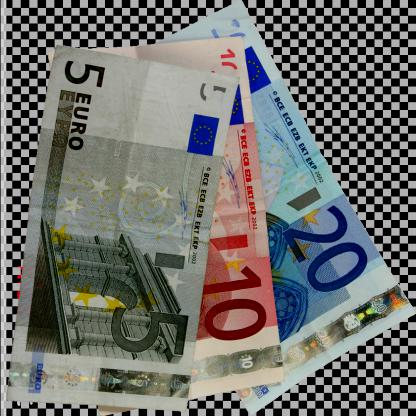euro_banknote: (62, 115, 416, 303), (26, 133, 401, 283)
